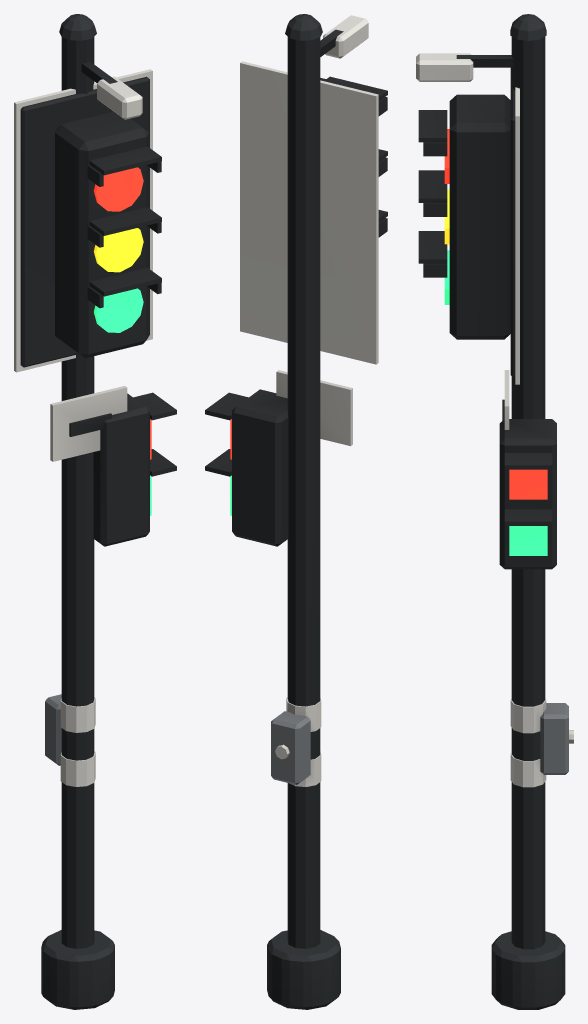
Rendered from traffic_light.glb.
The picture shows the model from 3 angles, left to right: view 1: azimuth 30°, elevation 25°; view 2: azimuth 150°, elevation 25°; view 3: azimuth 270°, elevation 25°; orthographic projection.
Visible parts, largest first — view 1: traffic_light; view 2: traffic_light; view 3: traffic_light.
Part boxes in pixels (box(x1,y1,x2,y2)): traffic_light: box(14, 14, 176, 1009); traffic_light: box(205, 14, 387, 1009); traffic_light: box(416, 14, 573, 1009).
Bounding box in the file's own units: 0.75 × 4.53 × 0.66.
